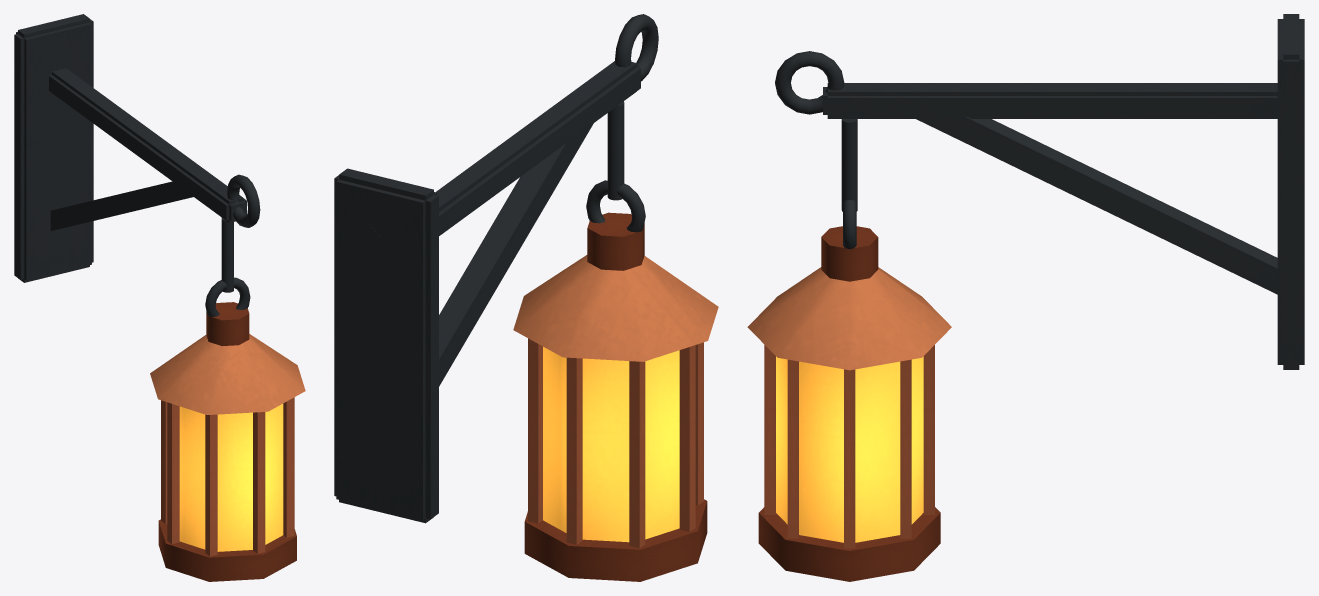
The model's file is lamp_copper_pendant.glb.
The picture shows the model from 3 angles, left to right: view 1: azimuth 30°, elevation 25°; view 2: azimuth 150°, elevation 25°; view 3: azimuth 270°, elevation 25°; orthographic projection. The views are drawn at different scales.
Visible parts, largest first — view 1: lamp_copper_pendant; view 2: lamp_copper_pendant; view 3: lamp_copper_pendant.
Boxes of the visible parts, x1=… form: lamp_copper_pendant: x1=14, y1=14, x2=305, y2=581; lamp_copper_pendant: x1=334, y1=14, x2=718, y2=581; lamp_copper_pendant: x1=747, y1=14, x2=1304, y2=581.
Size of the model in its own units: 0.306 by 0.84 by 0.833.
1 material, 1 textured.
